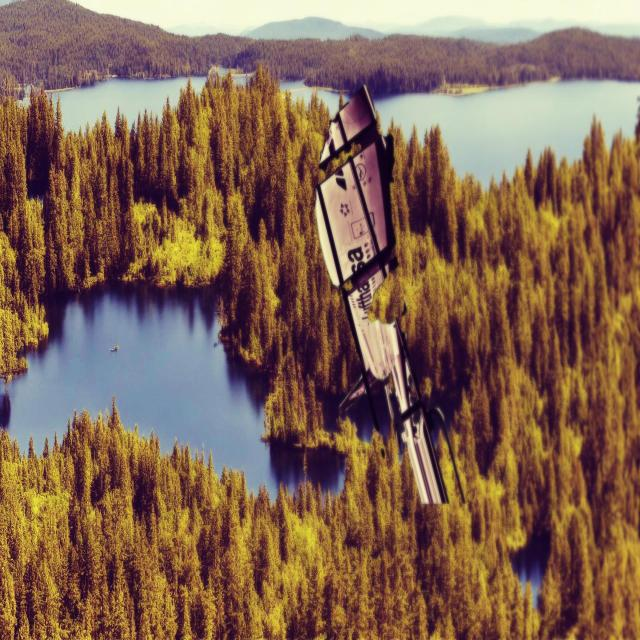airplane: (314, 83, 466, 507)
